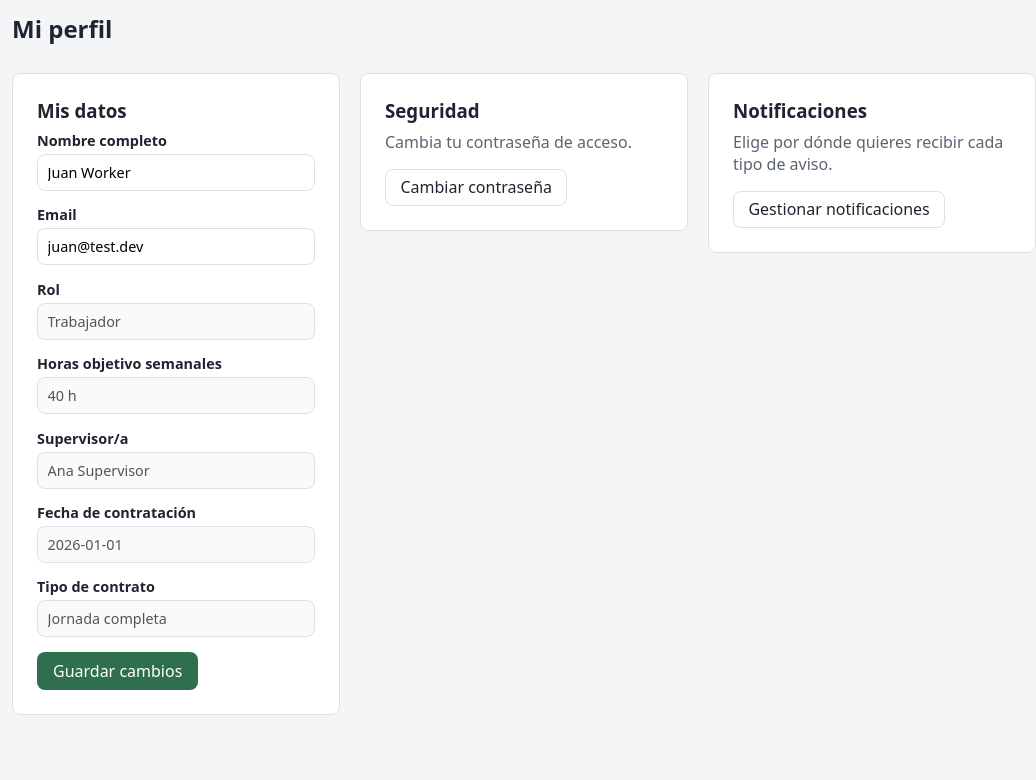
Test: Profile › guarda los cambios del formulario y recarga el perfil
This screenshot has width=1036, height=780.
Replace the text in the field showing "Juan Worker" with "Juan Actualizado". click: (176, 172)
box: [37,154,315,191]
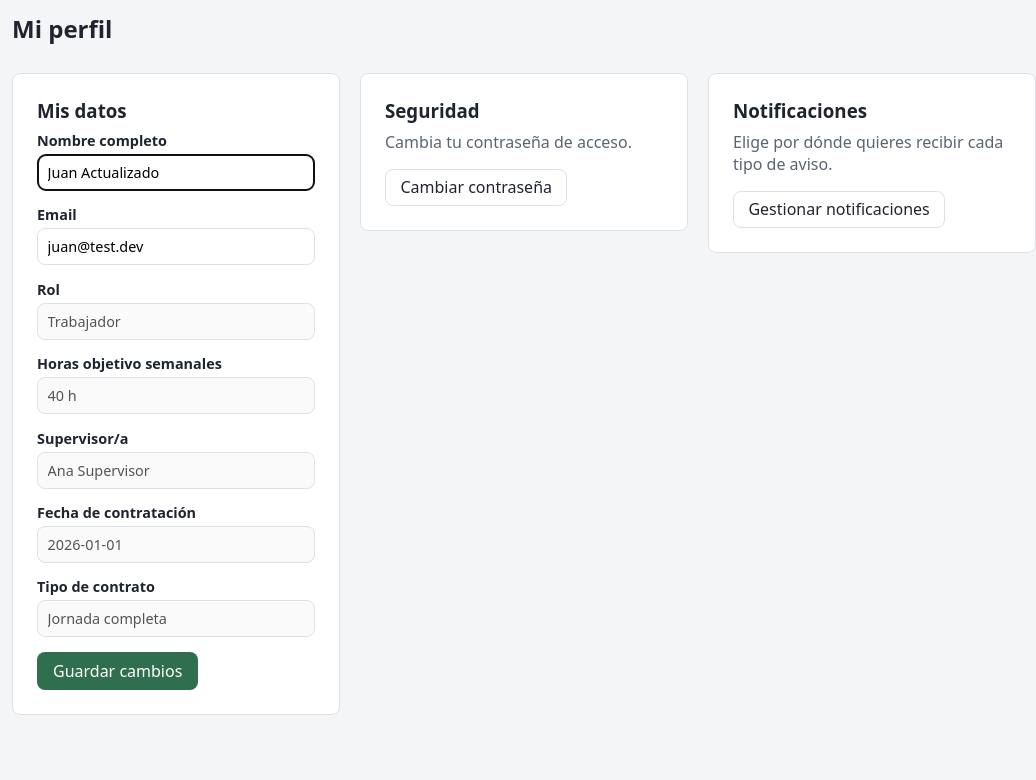
Click the button "Guardar cambios". click: click(118, 671)
box: [37,652,198,690]
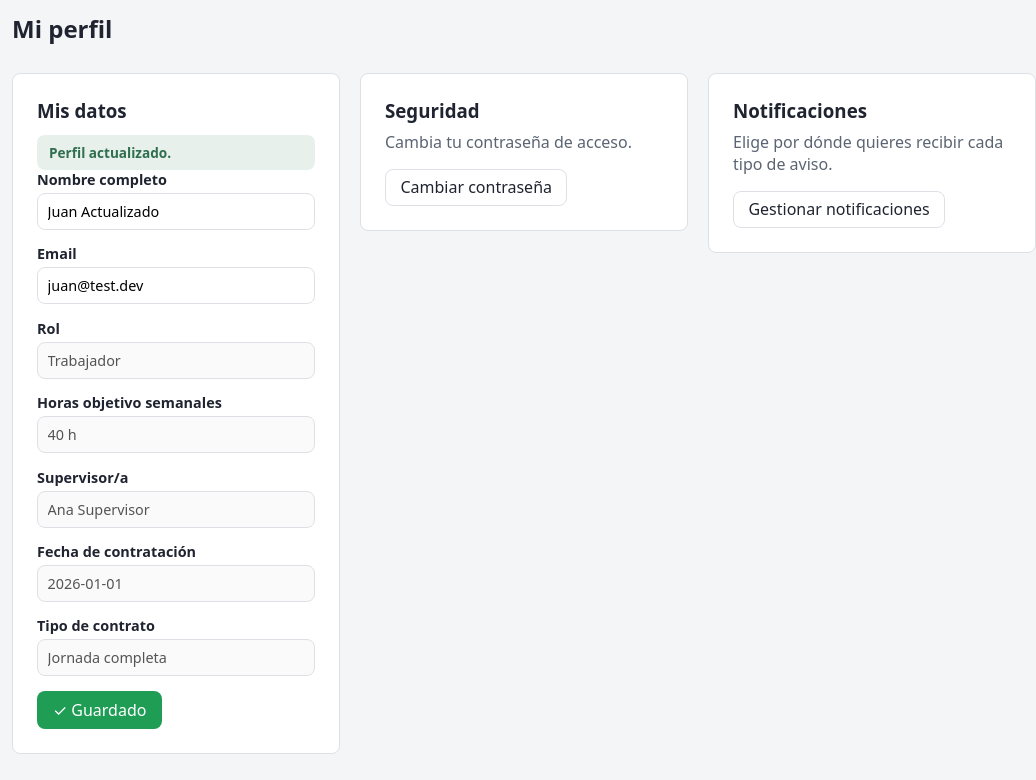
Expected: the text "Perfil actualizado." is shown, [37,135,315,170]
